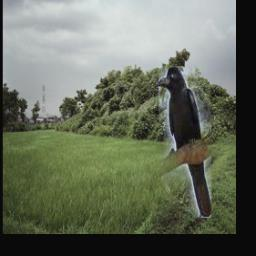Crow: (159, 67, 211, 219)
